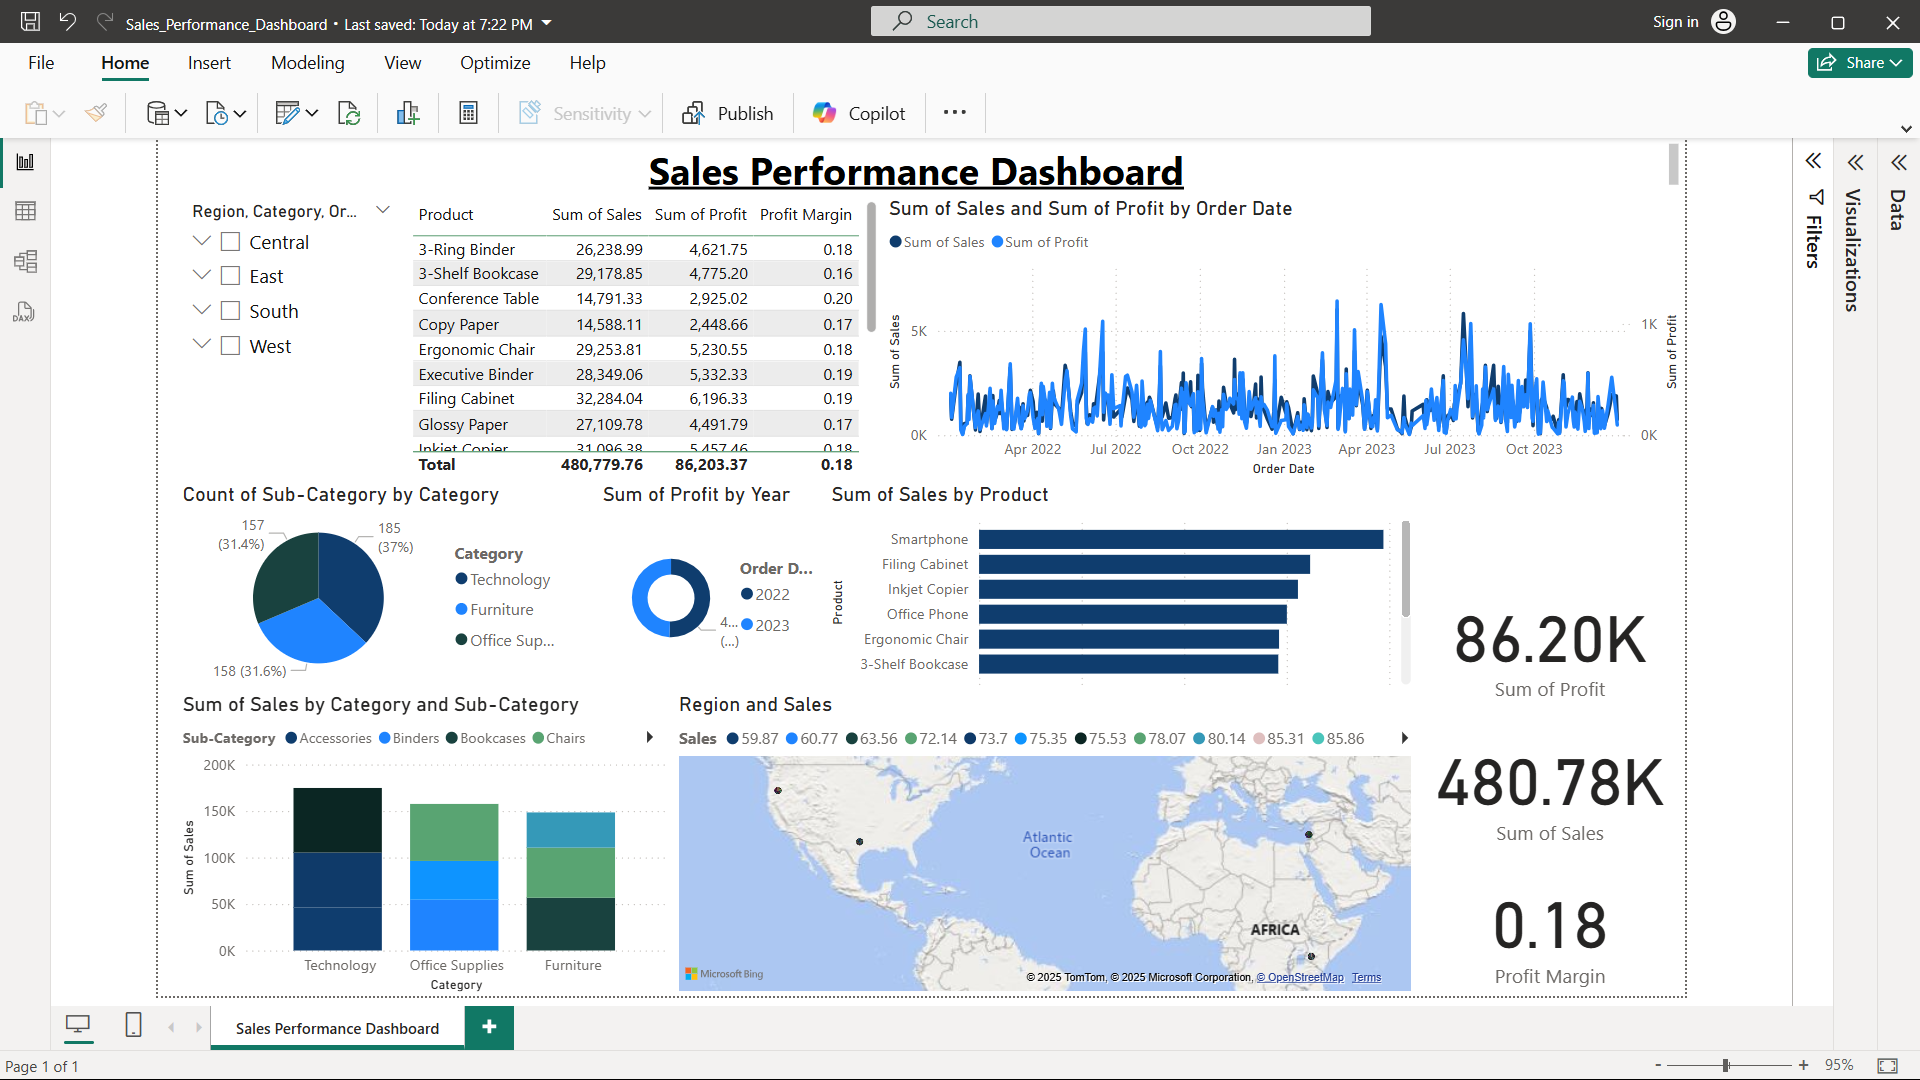

What the dashboard file says about the page in this screenshot:
{"tool":"powerbi","page":{"name":"Sales Performance Dashboard ","canvas":[1280,720],"ordinal":0},"visuals":[{"type":"pieChart","fields":{"Category":["Sheet1.Category"],"Y":["CountNonNull(Sheet1.Sub-Category)"]},"box":[16,288,336,176],"z":0},{"type":"donutChart","fields":{"Category":["Sheet1.Order Date.Variation.Date Hierarchy.Year","Sheet1.Order Date.Variation.Date Hierarchy.Quarter","Sheet1.Order Date.Variation.Date Hierarchy.Month","Sheet1.Order Date.Variation.Date Hierarchy.Day"],"Y":["Sum(Sheet1.Profit)"]},"box":[368,288,192,176],"z":1000},{"type":"lineChart","fields":{"Y":["Sum(Sheet1.Sales)"],"Category":["Sheet1.Order Date"],"Y2":["Sum(Sheet1.Profit)"]},"box":[608,48,672,240],"z":2000},{"type":"barChart","fields":{"Category":["Sheet1.Product"],"Y":["Sum(Sheet1.Sales)"]},"box":[560,288,496,208],"z":3000},{"type":"map","fields":{"Category":["Sheet1.Region"],"Series":["Sheet1.Sales"]},"box":[432,464,624,256],"z":4000},{"type":"columnChart","fields":{"Category":["Sheet1.Category"],"Series":["Sheet1.Sub-Category"],"Y":["Sum(Sheet1.Sales)"]},"box":[16,464,416,256],"z":5000},{"type":"slicer","fields":{"Values":["SalesData.Region","SalesData.Category","SalesData.Order Date"]},"box":[16,48,192,144],"z":6000},{"type":"tableEx","fields":{"Values":["SalesData.Product","Sum(SalesData.Sales)","Sum(SalesData.Profit)","SalesData.Profit Margin"]},"box":[208,48,400,240],"z":7000},{"type":"textbox","box":[0,0,1280,48],"z":8000},{"type":"card","fields":{"Values":["Sum(SalesData.Sales)"]},"box":[1056,480,224,128],"z":8001},{"type":"card","fields":{"Values":["Sum(SalesData.Profit)"]},"box":[1056,368,224,112],"z":8002},{"type":"card","fields":{"Values":["SalesData.Profit Margin"]},"box":[1056,608,224,112],"z":8003}]}

Visuals, with their boxes on the page's 1280x720 design canvas (x1, y1, x2, y2). These are canvas units, not pixel positions in the 1920x1080 screenshot, which may show the page scaled, cropped or inside an application window:
pieChart - Sheet1.Category x CountNonNull(Sheet1.Sub-Category): x1=16, y1=288, x2=352, y2=464
donutChart - Sheet1.Order Date.Variation.Date Hierarchy.Year x Sheet1.Order Date.Variation.Date Hierarchy.Quarter: x1=368, y1=288, x2=560, y2=464
lineChart - Sum(Sheet1.Sales) x Sheet1.Order Date: x1=608, y1=48, x2=1280, y2=288
barChart - Sheet1.Product x Sum(Sheet1.Sales): x1=560, y1=288, x2=1056, y2=496
map - Sheet1.Region x Sheet1.Sales: x1=432, y1=464, x2=1056, y2=720
columnChart - Sheet1.Category x Sheet1.Sub-Category: x1=16, y1=464, x2=432, y2=720
slicer - SalesData.Region x SalesData.Category: x1=16, y1=48, x2=208, y2=192
tableEx - SalesData.Product x Sum(SalesData.Sales): x1=208, y1=48, x2=608, y2=288
textbox: x1=0, y1=0, x2=1280, y2=48
card - Sum(SalesData.Sales): x1=1056, y1=480, x2=1280, y2=608
card - Sum(SalesData.Profit): x1=1056, y1=368, x2=1280, y2=480
card - SalesData.Profit Margin: x1=1056, y1=608, x2=1280, y2=720
